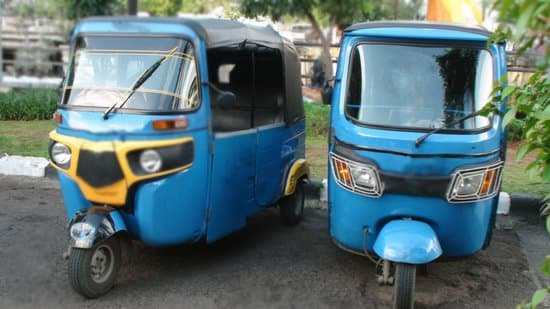threewheel: (47, 15, 310, 300), (321, 20, 509, 309)
